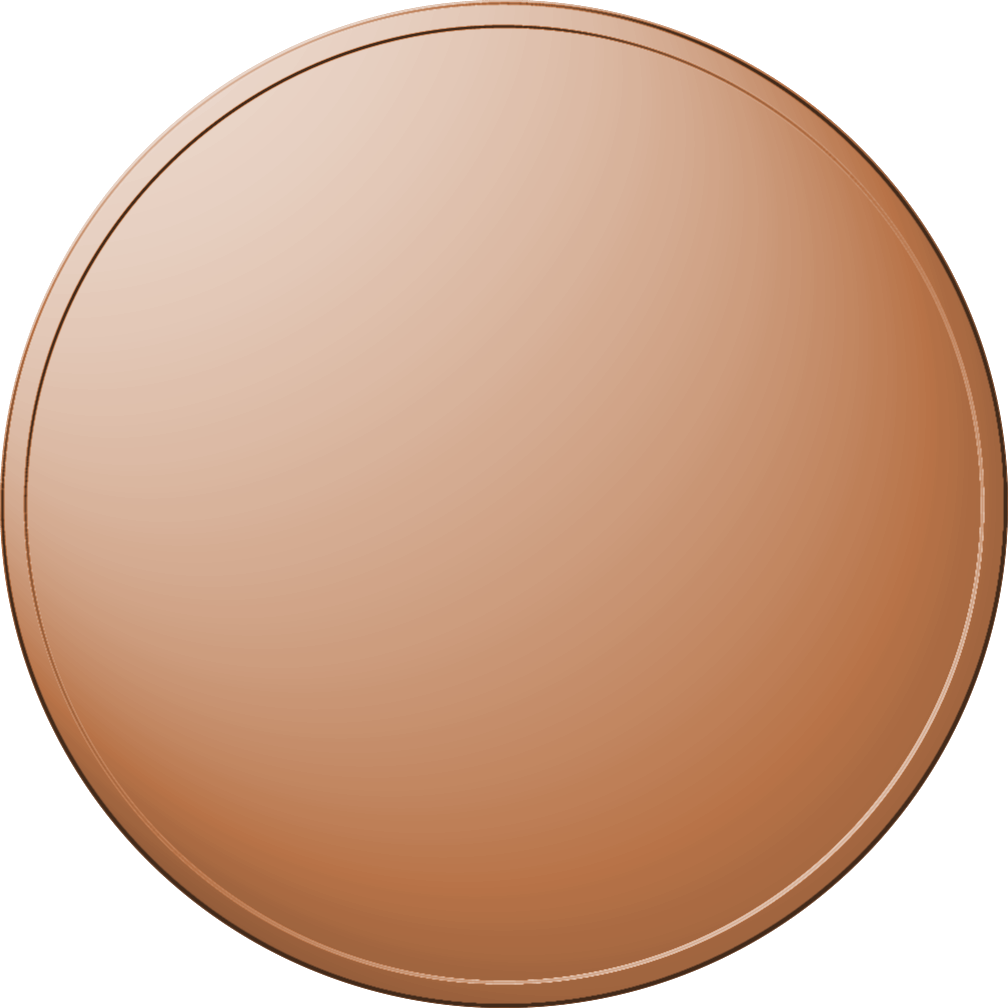norust: (1, 3, 1008, 1008)
